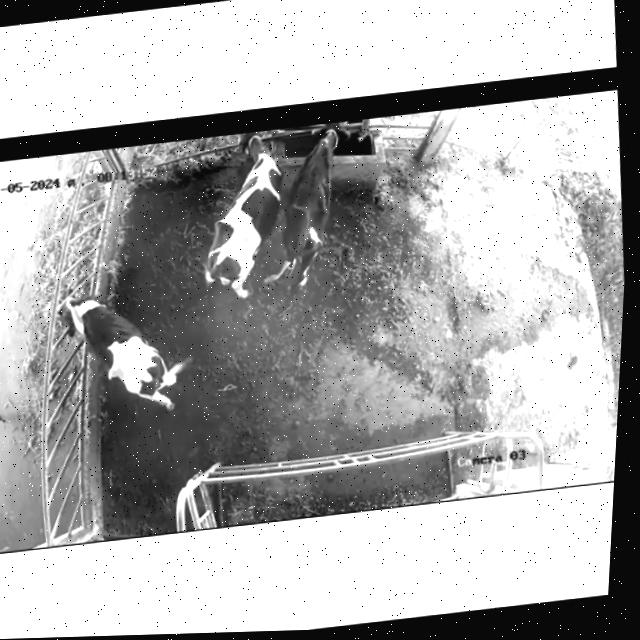drink: (290, 118, 371, 181)
eat: (24, 277, 116, 349)
stand: (191, 128, 297, 313)
